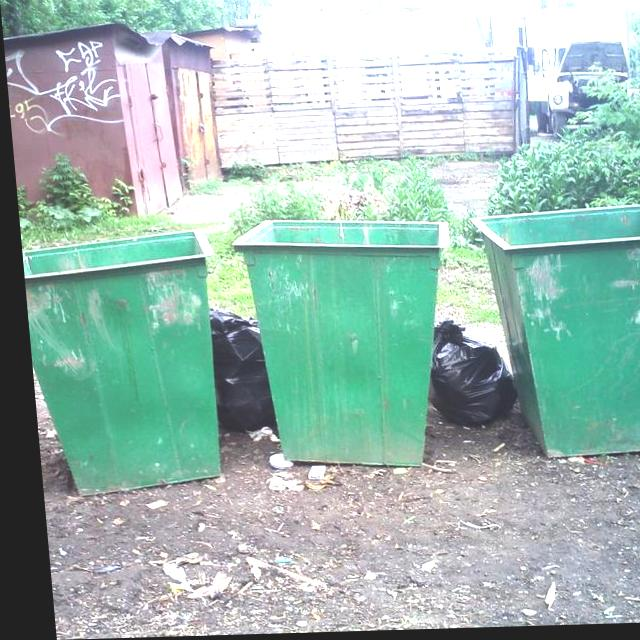Trash_Can_Empty: (230, 222, 444, 467), (18, 232, 209, 494), (468, 209, 640, 458)
